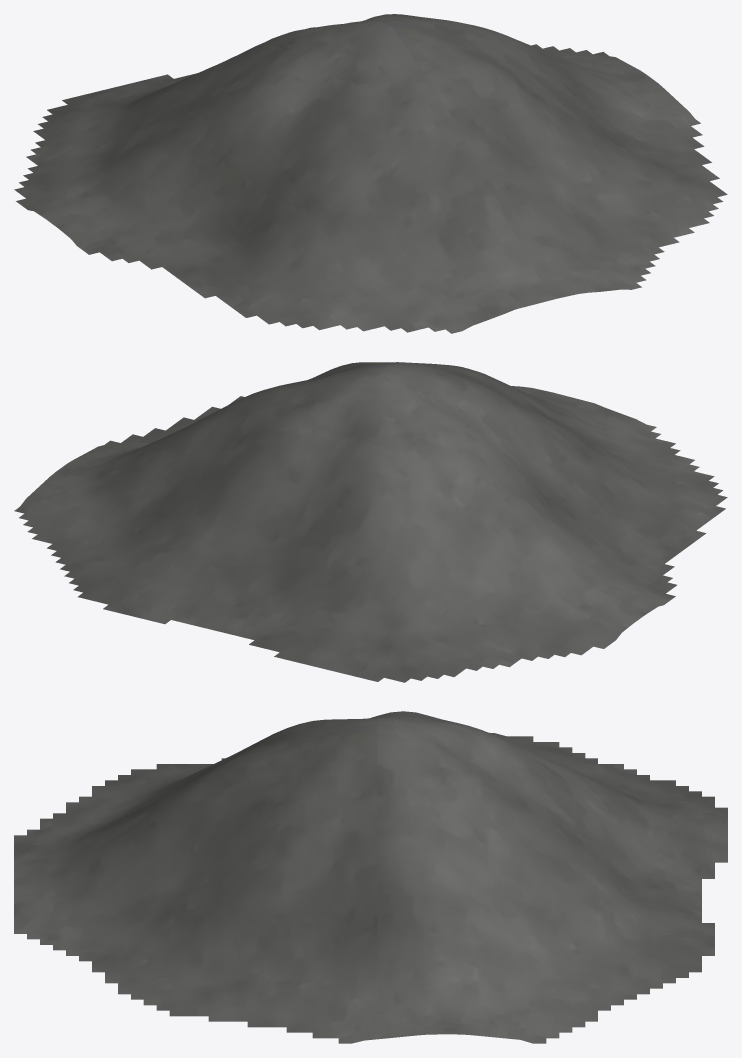
File: EST-CON-001_lod1.glb
3 renders of one model, top to bottom at view 1: azimuth 30°, elevation 25°; view 2: azimuth 150°, elevation 25°; view 3: azimuth 270°, elevation 25°, orthographic. The views are drawn at different scales.
Parts seen in each view (by area): view 1: EST-CON-001_concreto; view 2: EST-CON-001_concreto; view 3: EST-CON-001_concreto.
Boxes of the visible parts, left/top/right/bottom form: EST-CON-001_concreto: left=14, top=14, right=727, bottom=333; EST-CON-001_concreto: left=14, top=362, right=727, bottom=682; EST-CON-001_concreto: left=14, top=711, right=727, bottom=1043.
Size of the model in its own units: 1.7 by 0.4316 by 1.67.
1 material, 1 textured.
